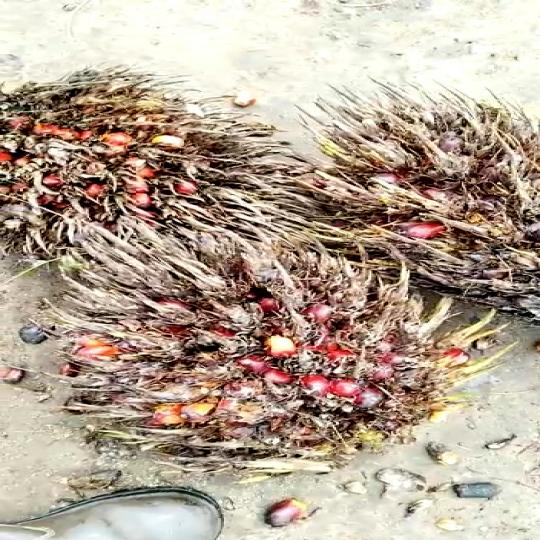terlalu masak: (16, 241, 468, 459)
